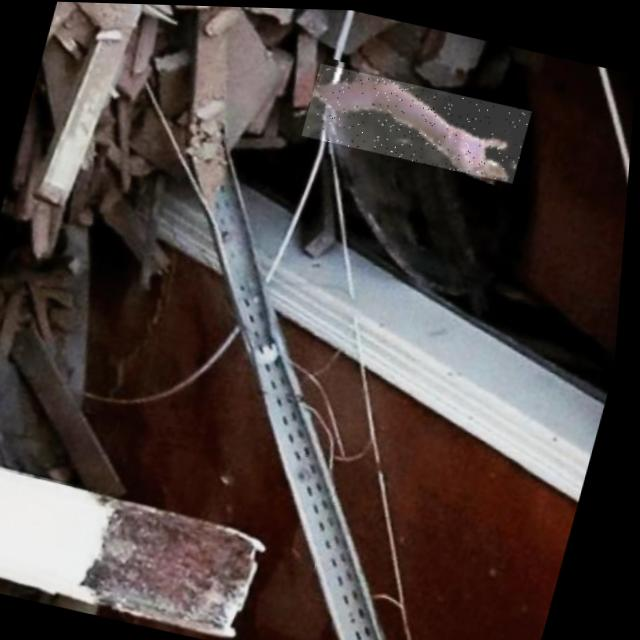Person in Rubble: (300, 61, 535, 181)
